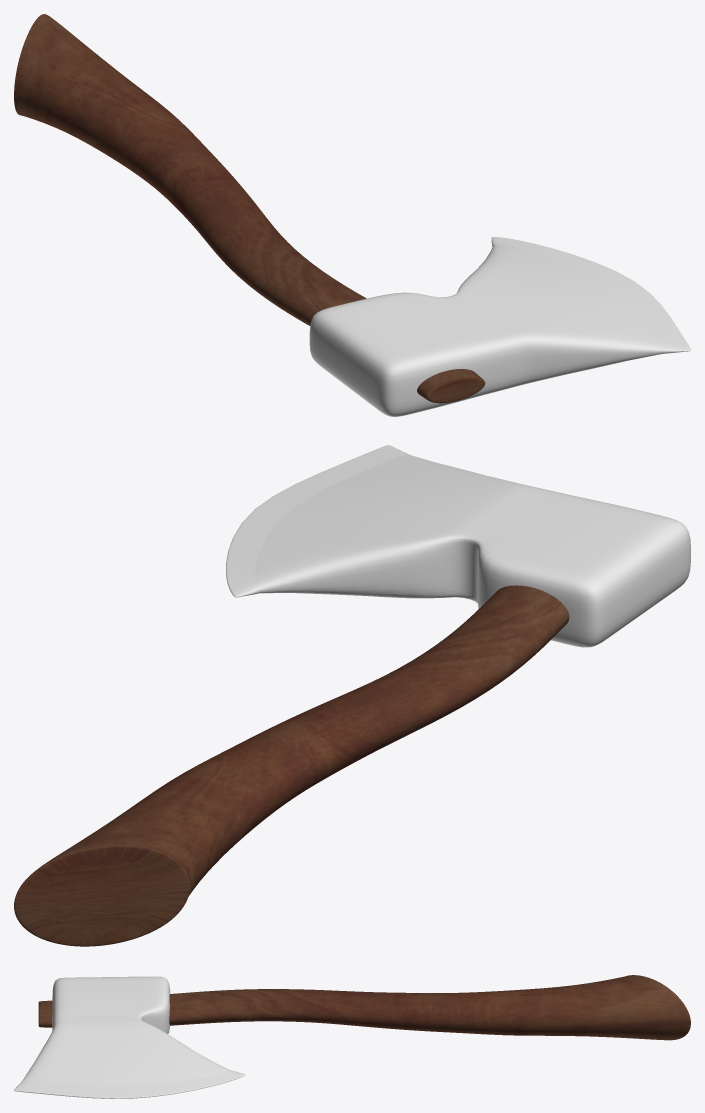
File: Kapak.fbx
3 views of the same model, one above another, from view 1: azimuth 30°, elevation 25°; view 2: azimuth 150°, elevation 25°; view 3: azimuth 270°, elevation 25° (orthographic). The views are drawn at different scales.
Visible parts, largest first — view 1: besi low poly, gagang kayu; view 2: besi low poly, gagang kayu; view 3: gagang kayu, besi low poly.
Boxes of the visible parts, <box> form: besi low poly: <box>309,237,690,416</box>; gagang kayu: <box>14,14,485,403</box>; besi low poly: <box>226,445,690,647</box>; gagang kayu: <box>14,585,569,946</box>; gagang kayu: <box>38,975,690,1040</box>; besi low poly: <box>14,976,245,1098</box>.
Size of the model in its own units: 29.36 by 7.37 by 79.15.
Materials: 2 (1 with a texture image).
